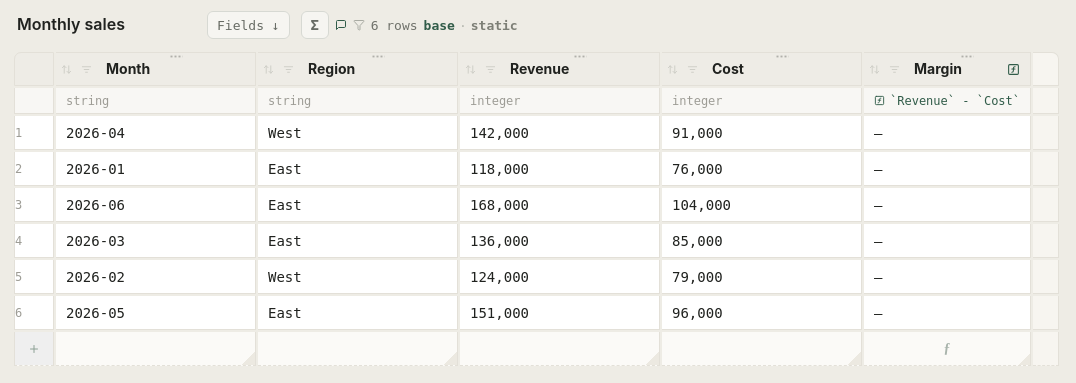
FrameCard editing gate › opens the editor from a typed key, seeded with the keystroke
Click the text "West" next to "2026-04": x=285, y=132 [268,124,302,140]
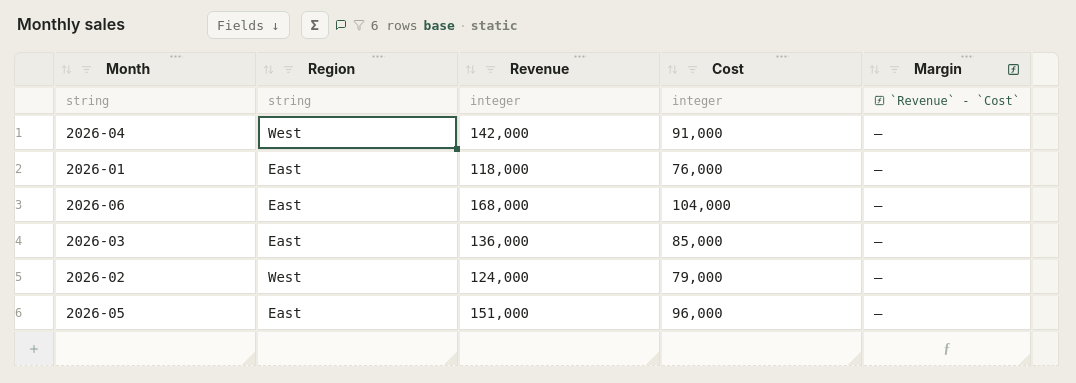
Press 5
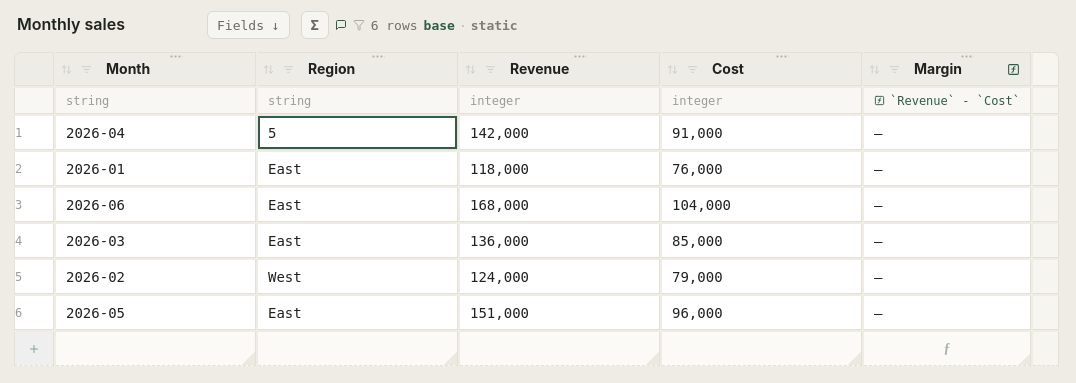
Now the field with class "cell-editor" holds "5", box [258,116,457,149]
